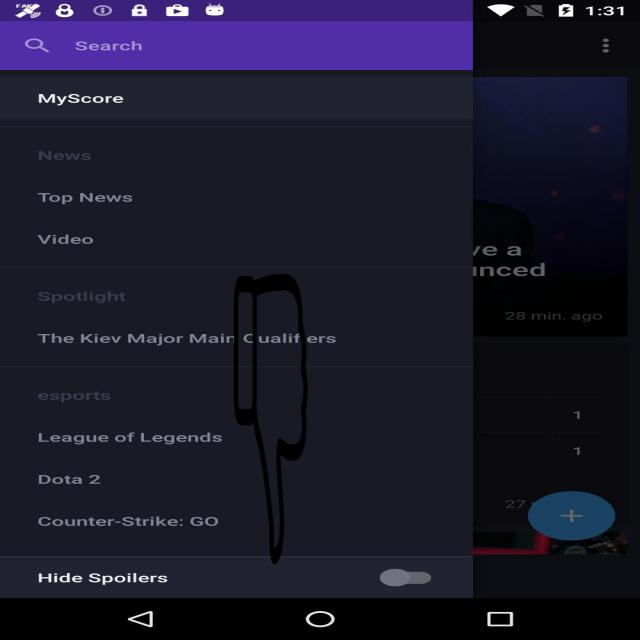obstruction: (233, 274, 309, 564)
